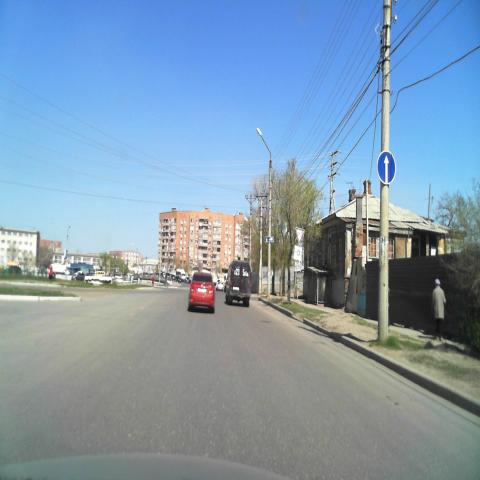8_13_1: (294, 245, 302, 260)
